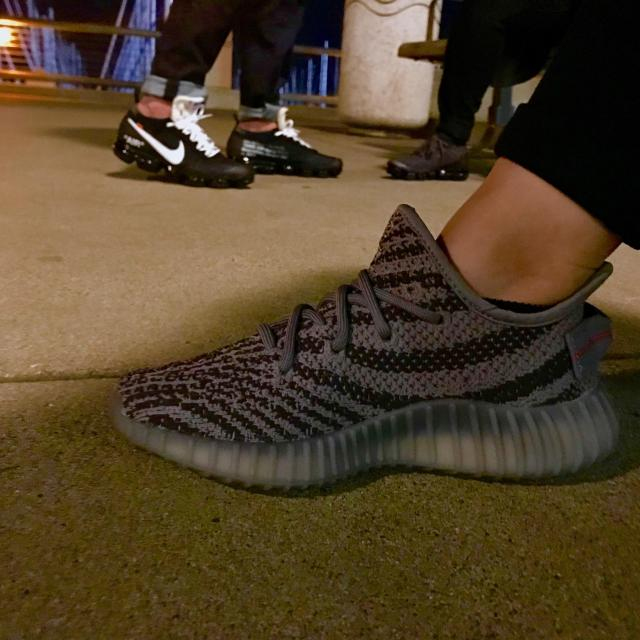shoe: (104, 195, 631, 500), (106, 82, 262, 197), (220, 106, 358, 190)
